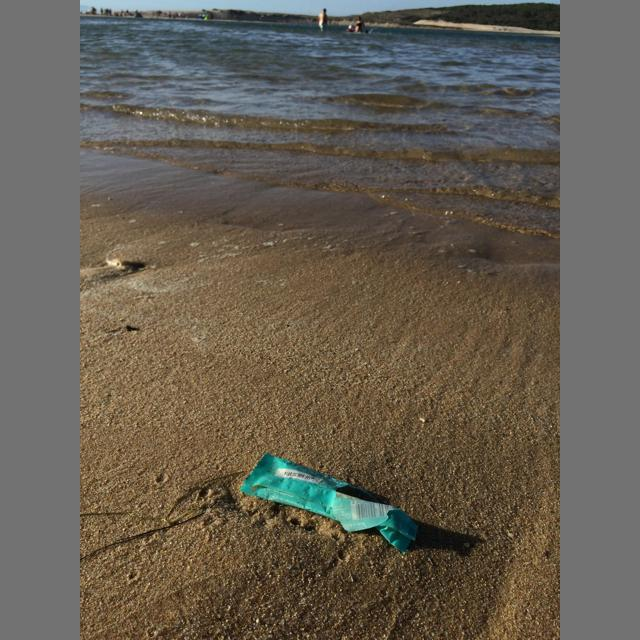litter: (239, 452, 417, 554)
